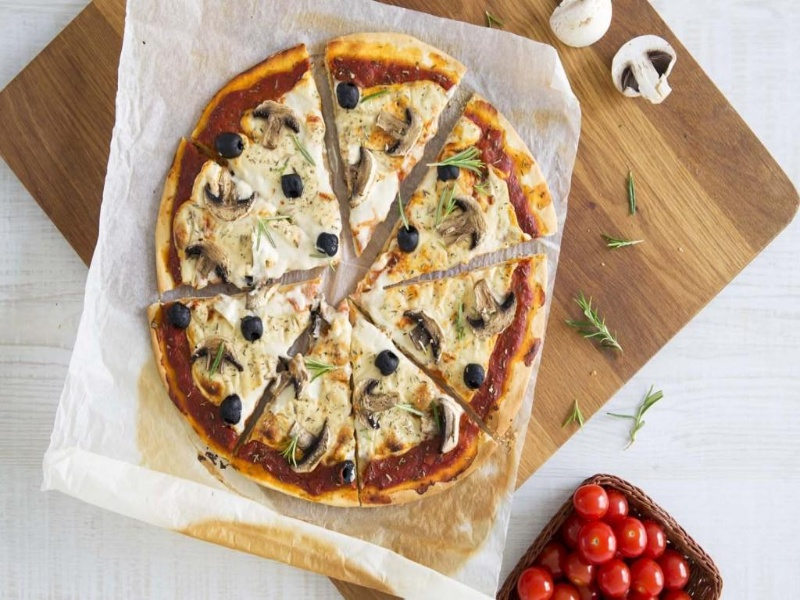champignon: (457, 278, 522, 344), (195, 166, 261, 229), (393, 304, 450, 370), (430, 194, 490, 254), (279, 421, 340, 480), (351, 377, 409, 438), (183, 237, 238, 296), (369, 107, 426, 163), (248, 97, 303, 154), (338, 146, 384, 209)
